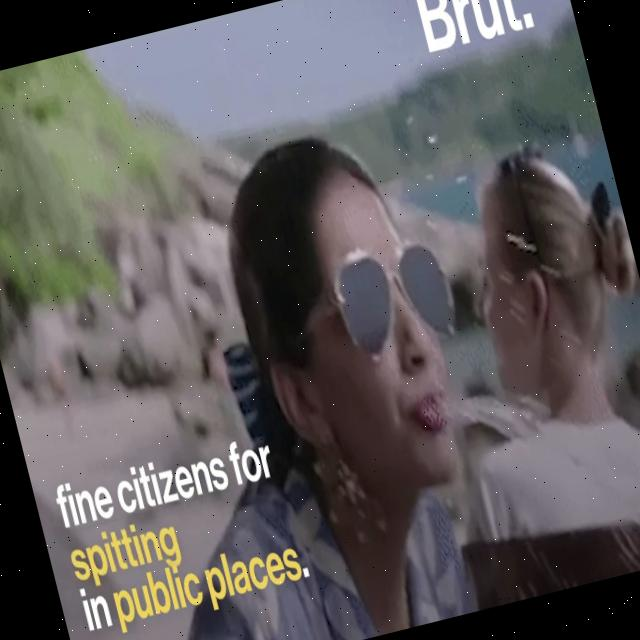spit: (390, 331, 640, 603)
